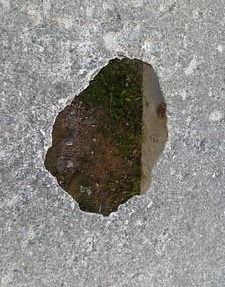Spalling: (43, 56, 169, 216)
